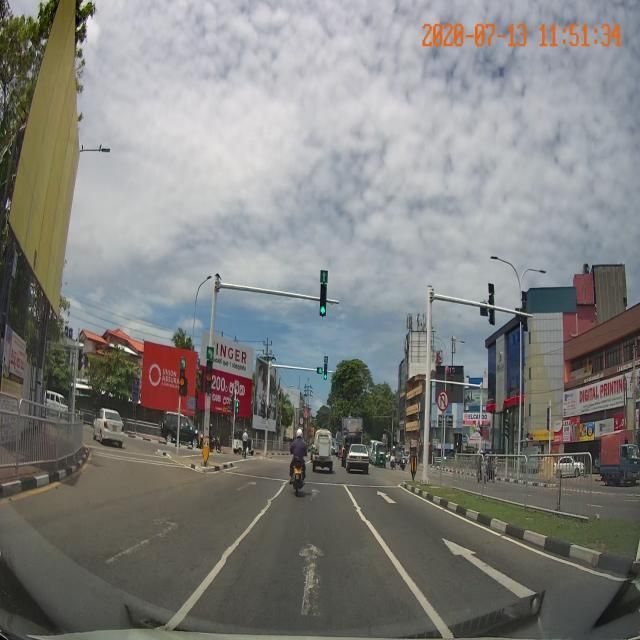forward: (385, 526, 590, 632)
